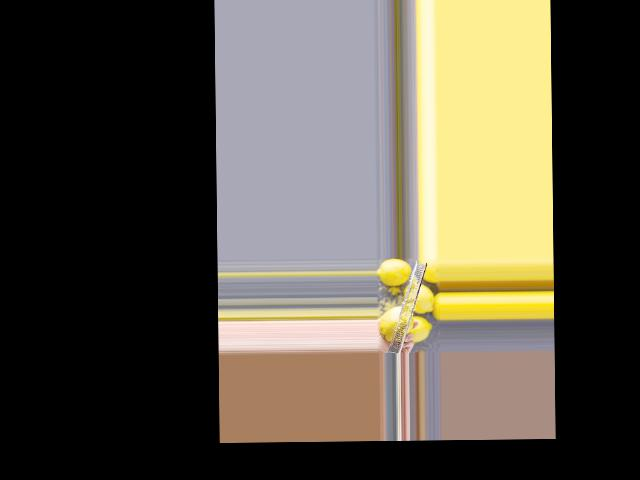lemon: (377, 259, 410, 291)
